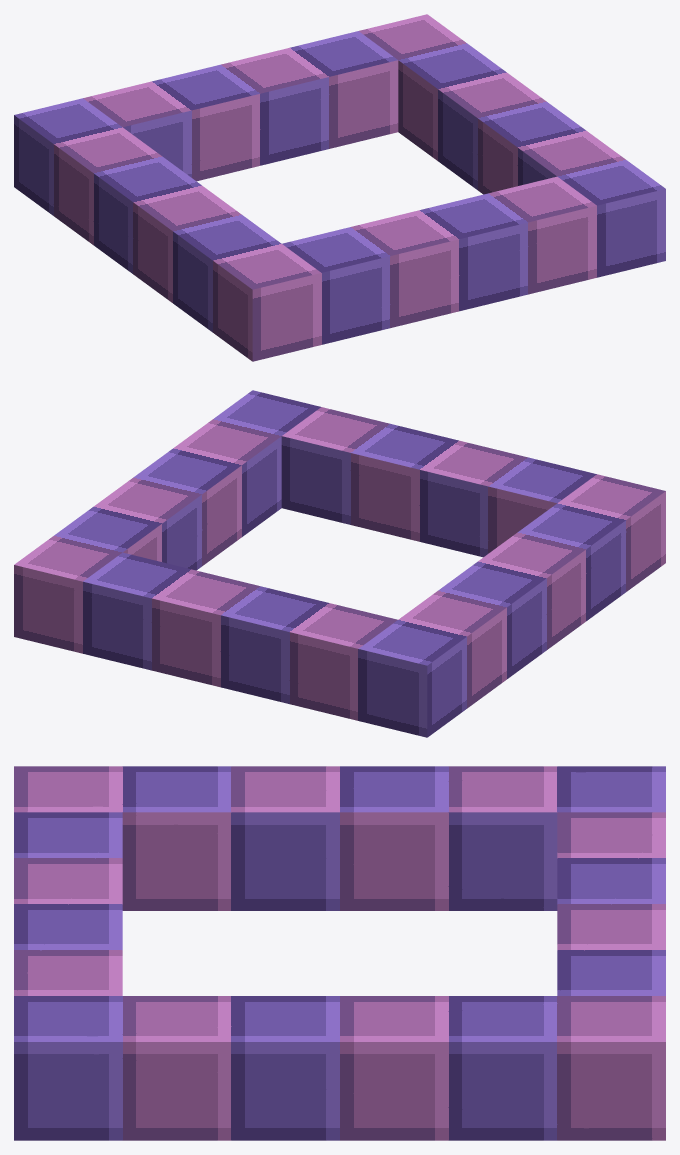
The model's file is lesser_gate_zuao.fezao.glb.
3 renders of one model, top to bottom at view 1: azimuth 30°, elevation 25°; view 2: azimuth 150°, elevation 25°; view 3: azimuth 270°, elevation 25°, orthographic. The views are drawn at different scales.
Parts seen in each view (by area): view 1: LESSER_GATE_ZUAO; view 2: LESSER_GATE_ZUAO; view 3: LESSER_GATE_ZUAO.
Part boxes in pixels (<box>): LESSER_GATE_ZUAO: <box>14,14,665,361</box>; LESSER_GATE_ZUAO: <box>14,390,665,737</box>; LESSER_GATE_ZUAO: <box>14,766,665,1140</box>.
Size of the model in its own units: 3 by 0.5 by 3.
1 material, 1 textured.
